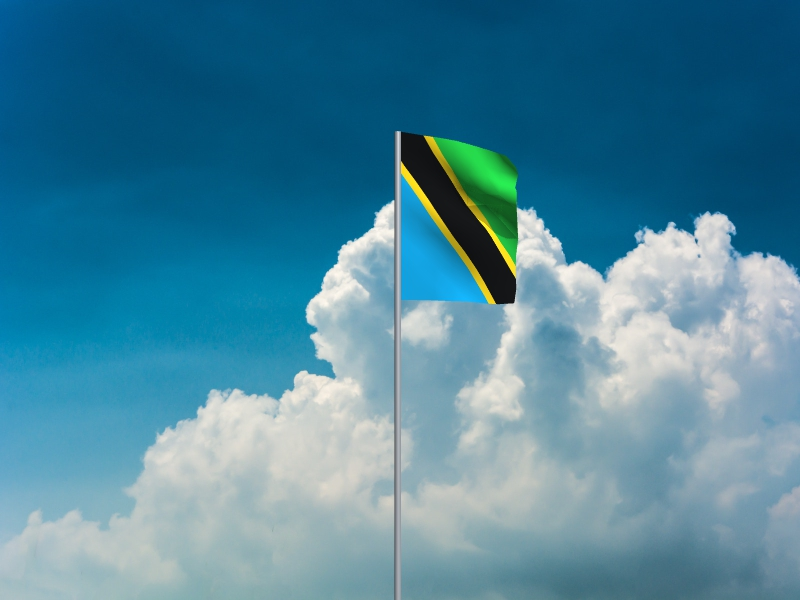tz: (401, 132, 521, 305)
